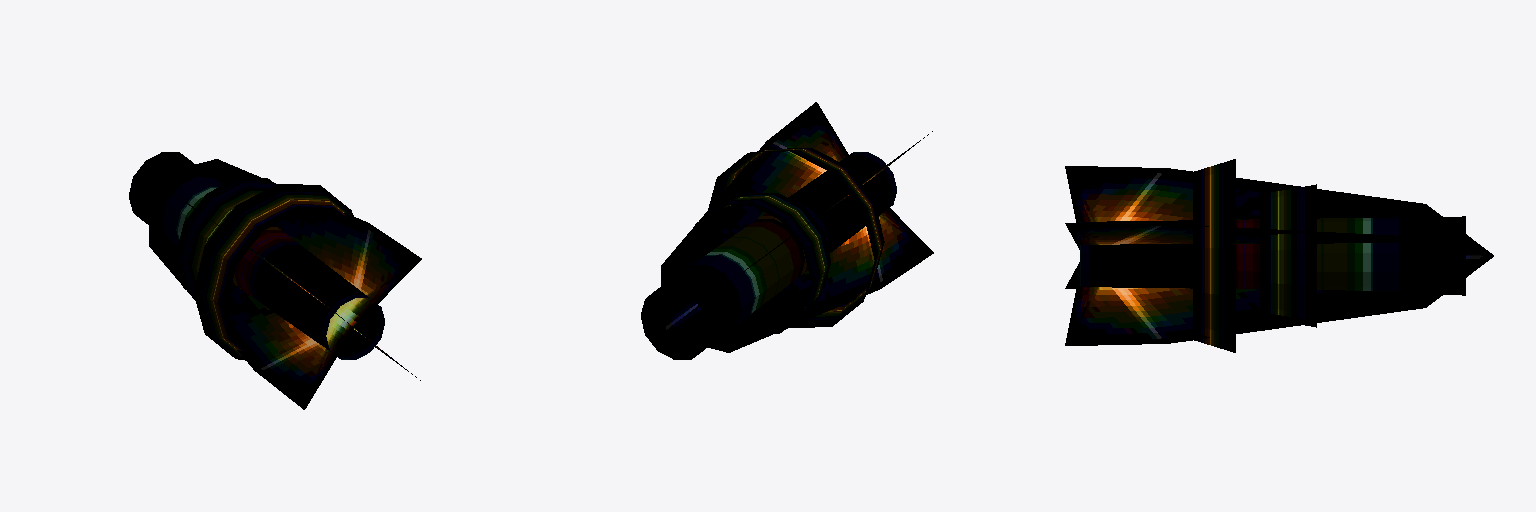
3 renders of one model, left to right at view 1: azimuth 30°, elevation 25°; view 2: azimuth 150°, elevation 25°; view 3: azimuth 270°, elevation 25°, orthographic.
Parts seen in each view (by area): view 1: polygon0; view 2: polygon0; view 3: polygon0.
Boxes of the visible parts, box(x1,y1,x2,y2) form: polygon0: box(129, 152, 421, 409); polygon0: box(641, 102, 933, 359); polygon0: box(1065, 159, 1493, 352).
Size of the model in its own units: 21.23 by 21.23 by 46.74.
Materials: 1 (1 with a texture image).